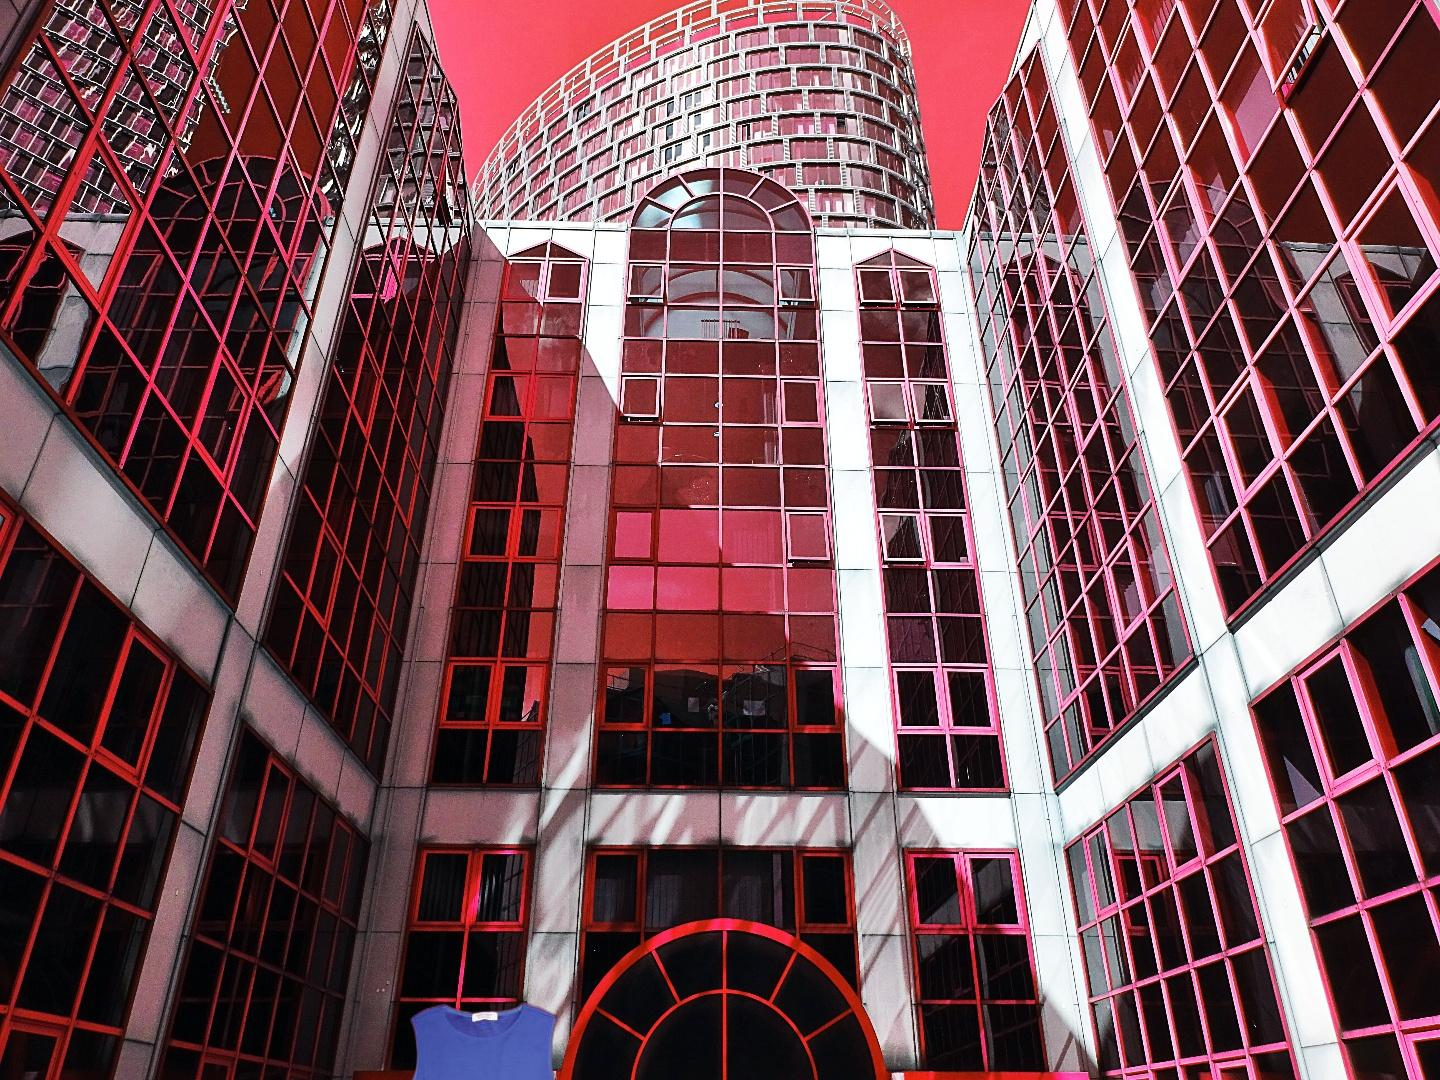clothes: (372, 998, 621, 1080)
